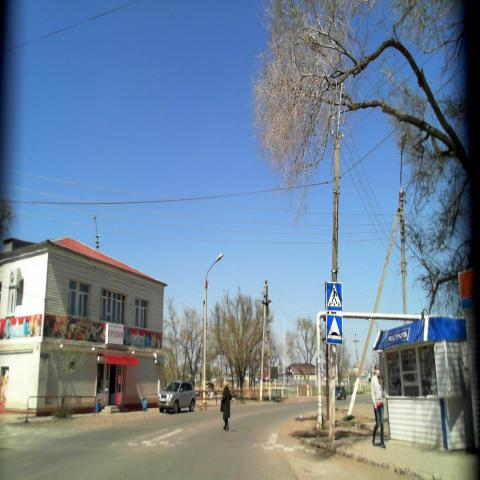5_19_1: (325, 281, 342, 311)
5_20: (324, 314, 343, 344)
